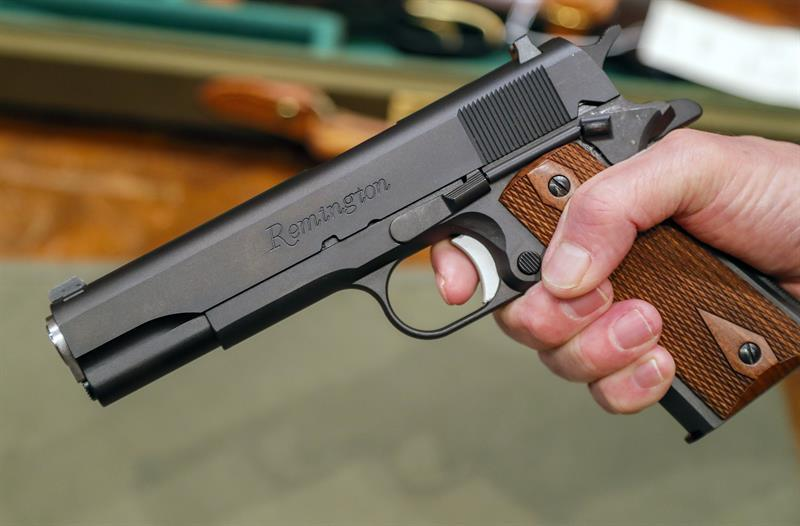Arma Real: (47, 20, 791, 443)
